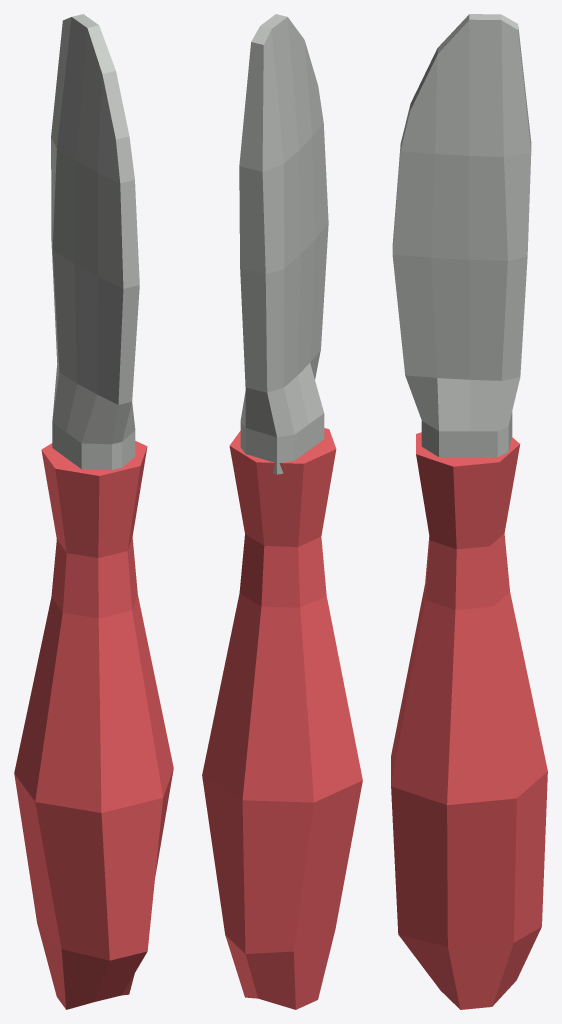
Rendered from knife.fbx.
The picture shows the model from 3 angles, left to right: view 1: azimuth 30°, elevation 25°; view 2: azimuth 150°, elevation 25°; view 3: azimuth 270°, elevation 25°; orthographic projection.
Visible parts, largest first — view 1: knife; view 2: knife; view 3: knife.
Part boxes in pixels (left/top/right/bottom): knife: left=14, top=14, right=173, bottom=1009; knife: left=202, top=14, right=362, bottom=1009; knife: left=391, top=14, right=547, bottom=1009.
Bounding box in the file's own units: 142 × 950 × 138.
